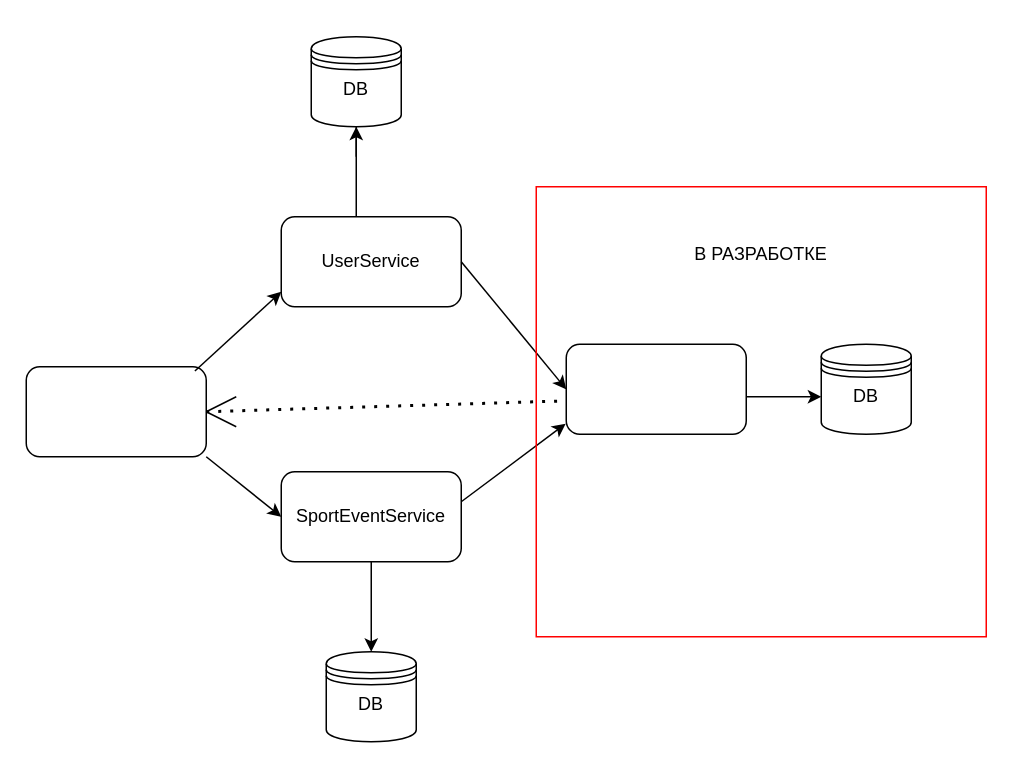
Some shapes in this 1013 by 768 pixel diagram are drawn without their labels. The centre of each missing label's shape, as x and y in pixels:
"FrontEnd" goes at [115,411].
"NotificationService" goes at [655,388].
